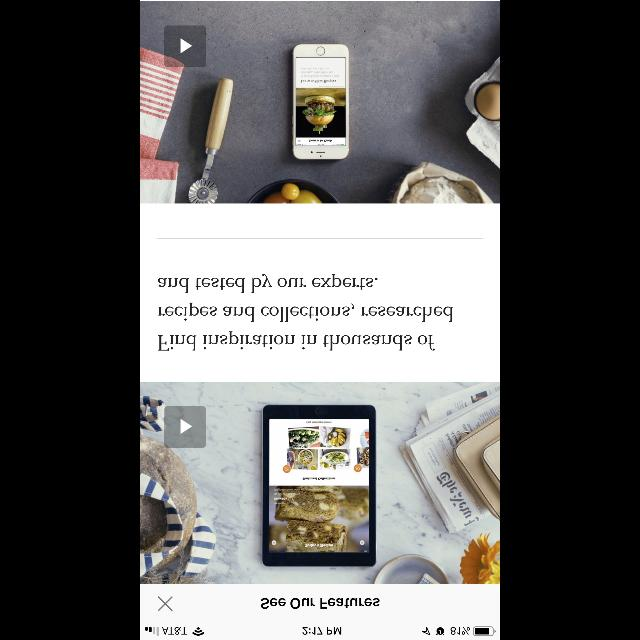icon: (158, 596, 174, 610), (181, 38, 193, 54), (180, 418, 192, 434)
image: (140, 382, 500, 584), (140, 1, 500, 203)
text: (158, 274, 454, 350), (260, 598, 380, 608)
uppertaskbar: (140, 626, 500, 640)
